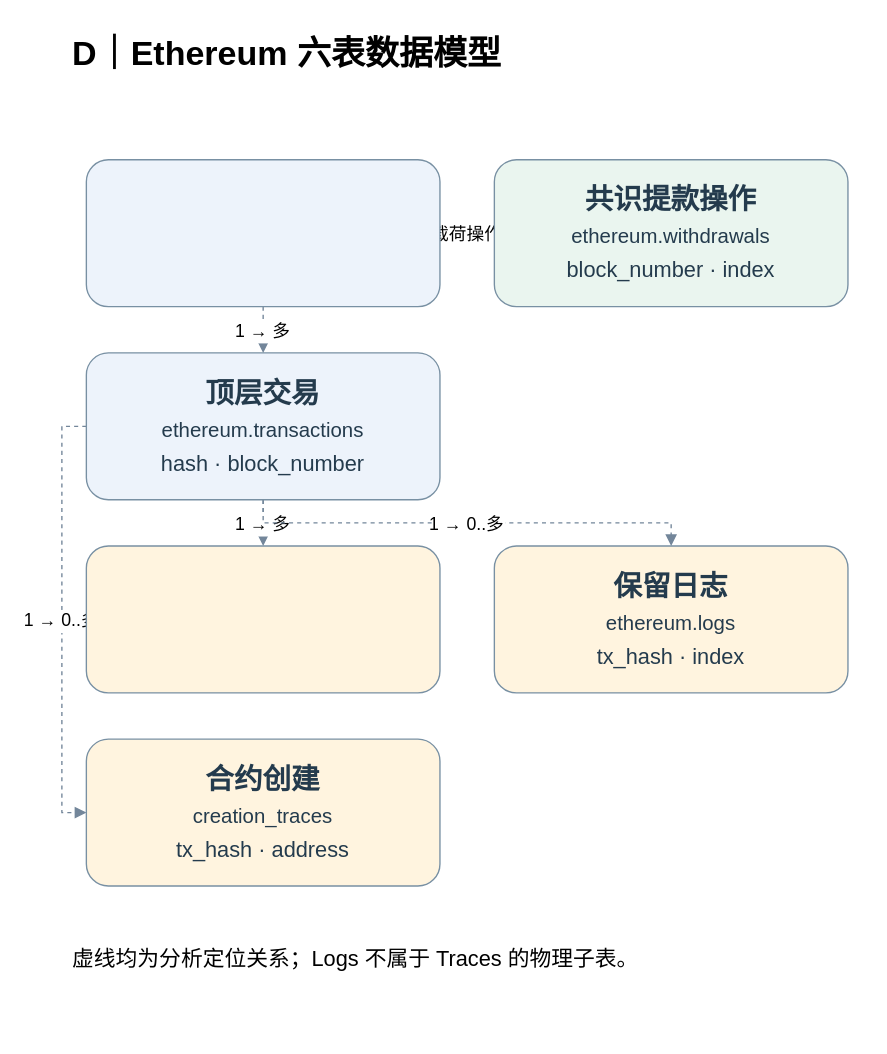
This 887x1054 diagram has some shape labels left out. The box of each missing label's shape, as (x1, y1, x2, y2) in pixels:
执行层区块 ethereum.blocks number / hash: (85, 158, 440, 307)
调用轨迹 ethereum.traces tx_hash · trace_address: (85, 545, 440, 693)
